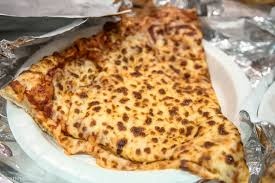pizza: (6, 16, 254, 182)
